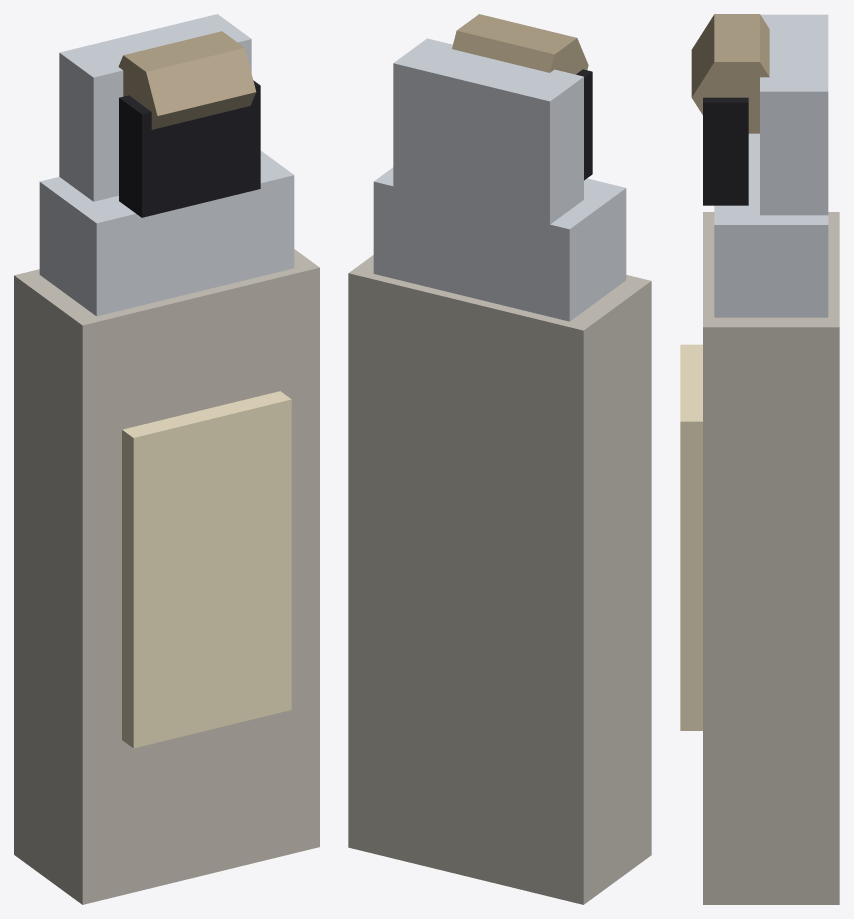
File: lighter.glb
3 renders of one model, left to right at view 1: azimuth 30°, elevation 25°; view 2: azimuth 150°, elevation 25°; view 3: azimuth 270°, elevation 25°, orthographic.
Visible parts, largest first — view 1: lighter; view 2: lighter; view 3: lighter.
Boxes of the visible parts, bbox=[...] form: lighter: bbox=[14, 14, 319, 904]; lighter: bbox=[348, 14, 651, 904]; lighter: bbox=[680, 14, 839, 904].
Size of the model in its own units: 0.024 by 0.0785 by 0.014.
